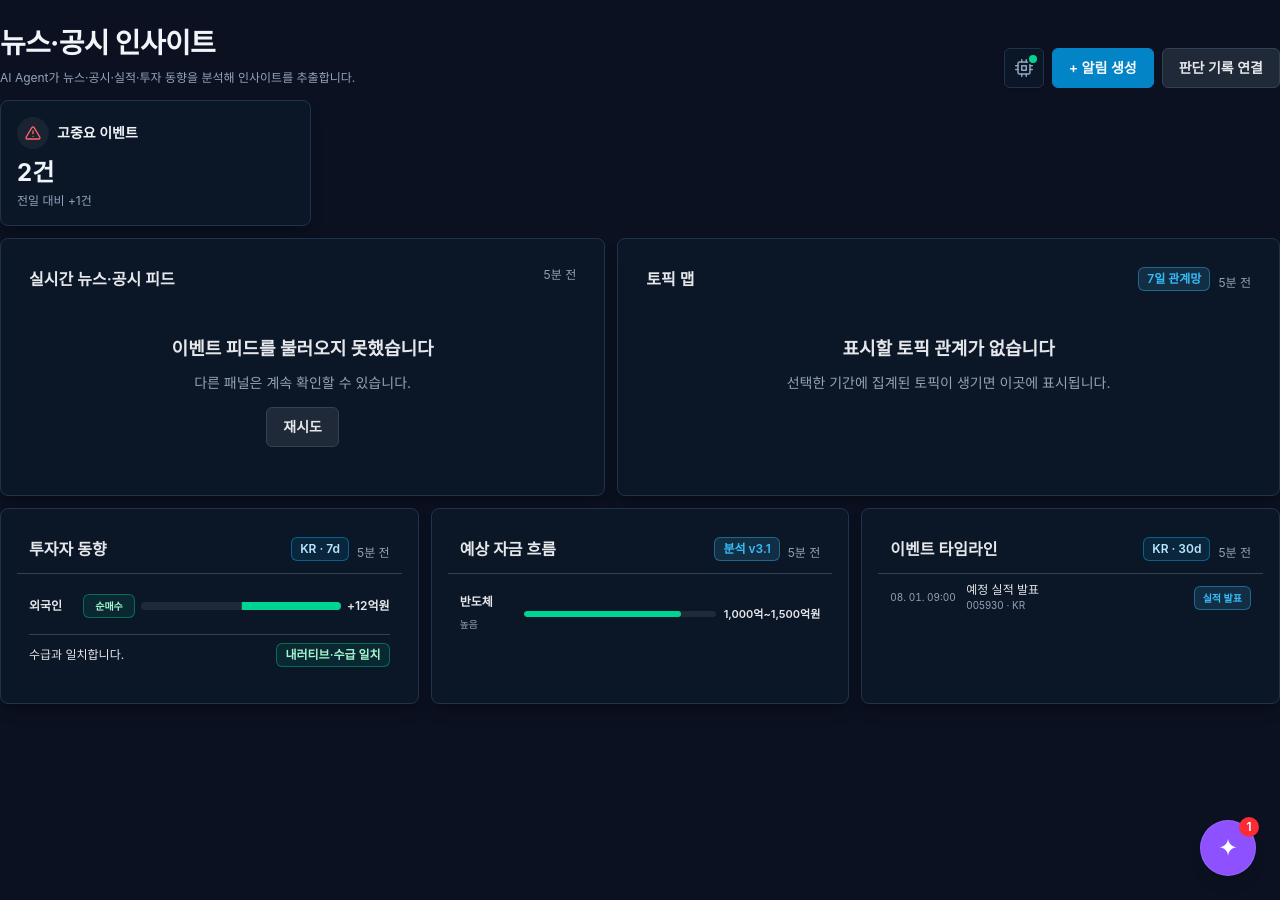
Test: NewsInsightsOverviewPage › keeps overview panels visible when the events request fails
Check: the text "2건" is shown, box 17,158 -> 54,187
Check: the heading "이벤트 피드를 불러오지 못했습니다" is shown, box 172,335 -> 434,363
Click the button named "에이전트 브리핑 열기" at (1228, 848), box 1200,820 -> 1256,876
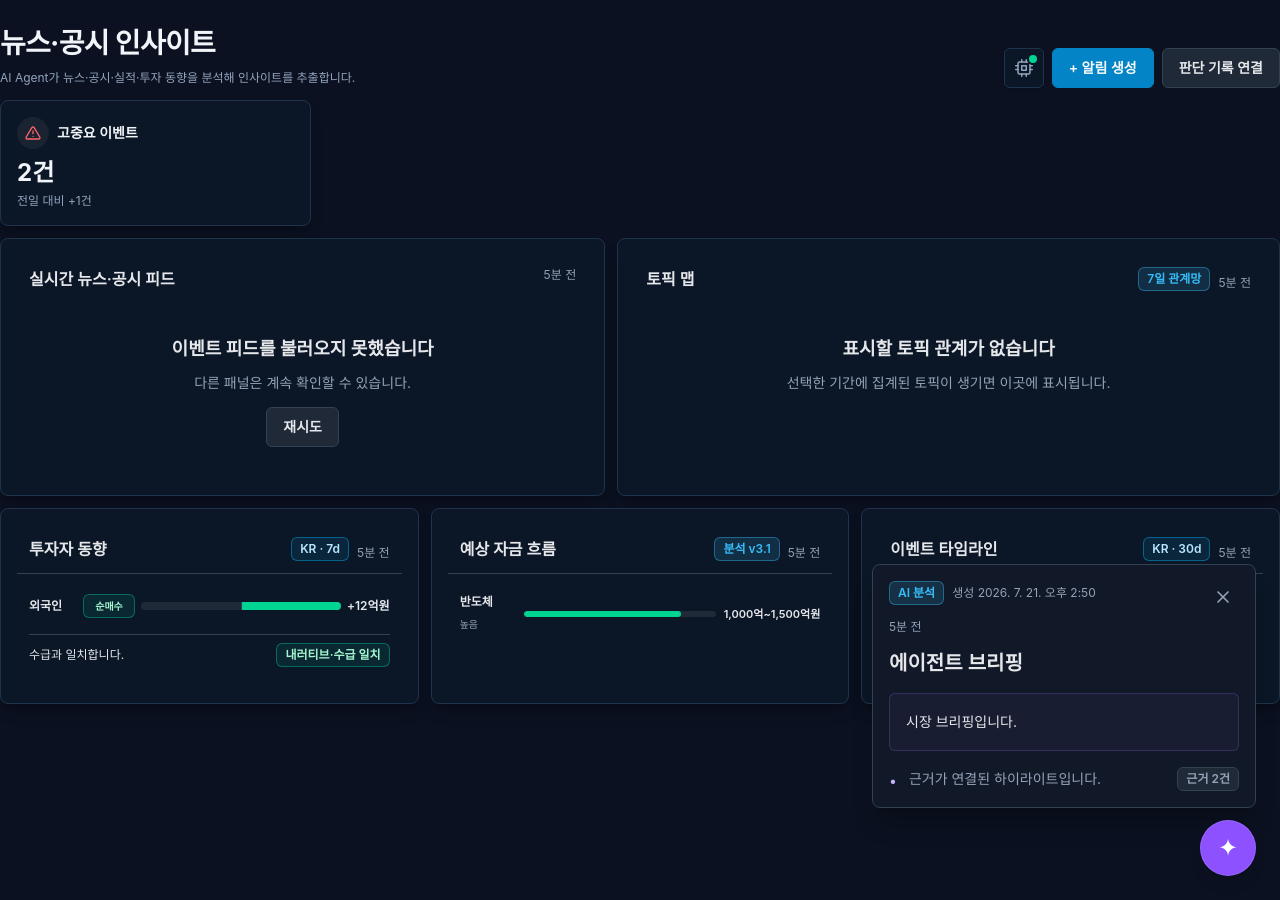
Check: the text "시장 브리핑입니다." is shown, box 889,693 -> 1239,751
